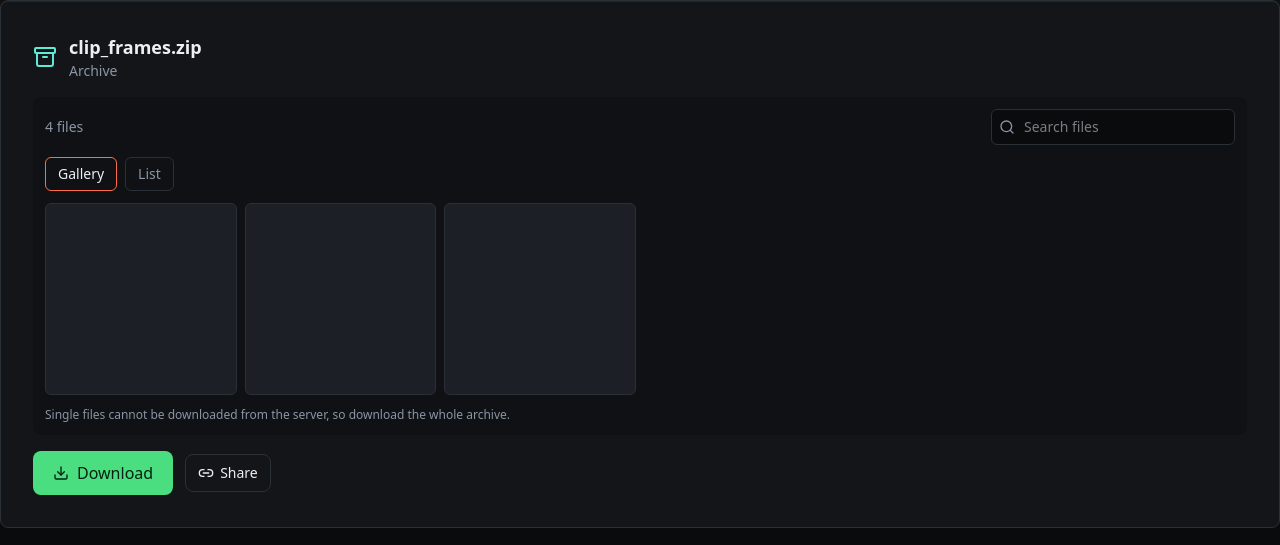
Test case: ArchiveViewer › extract-frames-from-video: a zip of frames lists entries and downloads one
Check: the element with test id "archive-viewer" is shown, box [45,109,1235,423]
Check: the number of buttons with test id "gallery-cell" is 3, box [45,203,237,395]; [245,203,436,395]; [444,203,636,395]
Click the button "List" at (149, 174), box [125,157,174,191]
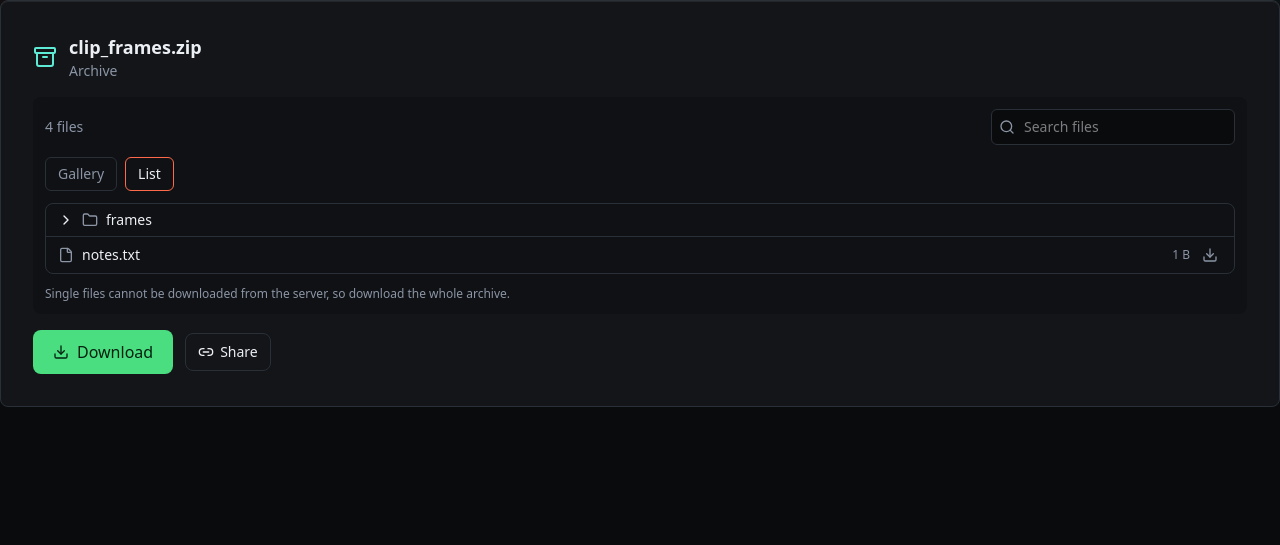
Click the button "frames" at (129, 220), box [58,210,1222,230]
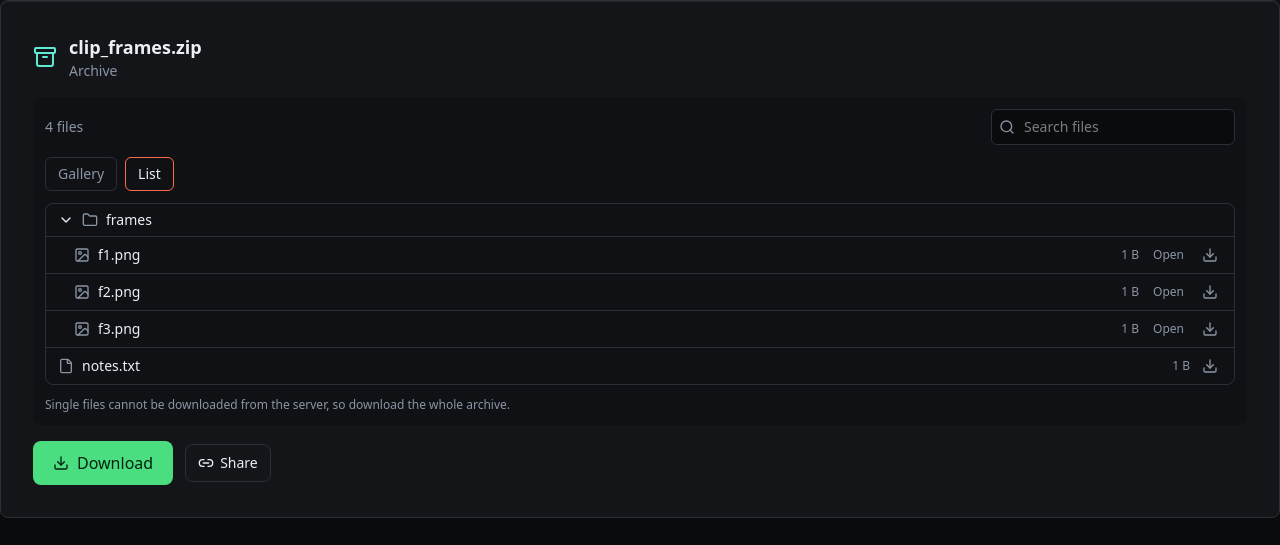
Check: the text "notes.txt" is shown, box [82,356,140,375]
Check: the text "f1.png" is shown, box [98,245,140,264]
